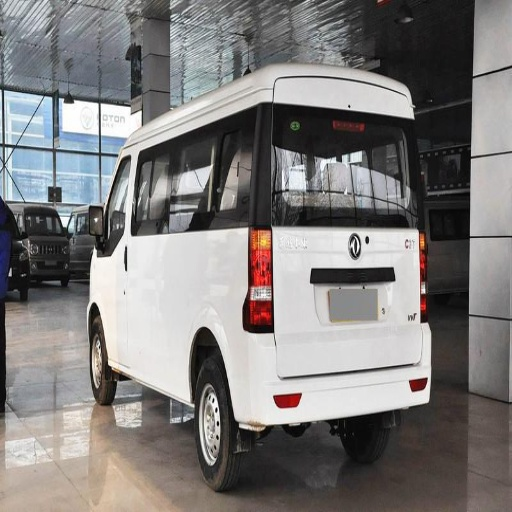back_bumper: (227, 332, 428, 428)
back_left_light: (243, 225, 272, 332)
back_right_door: (206, 141, 250, 205)
tailgate: (272, 217, 418, 327)
trunk: (277, 230, 419, 377), (160, 231, 237, 357)
